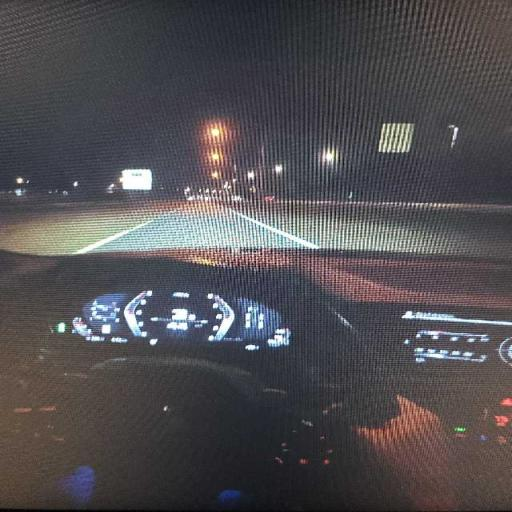car: (0, 250, 511, 509)
lane: (0, 201, 511, 259), (247, 205, 511, 259), (92, 208, 310, 251)
